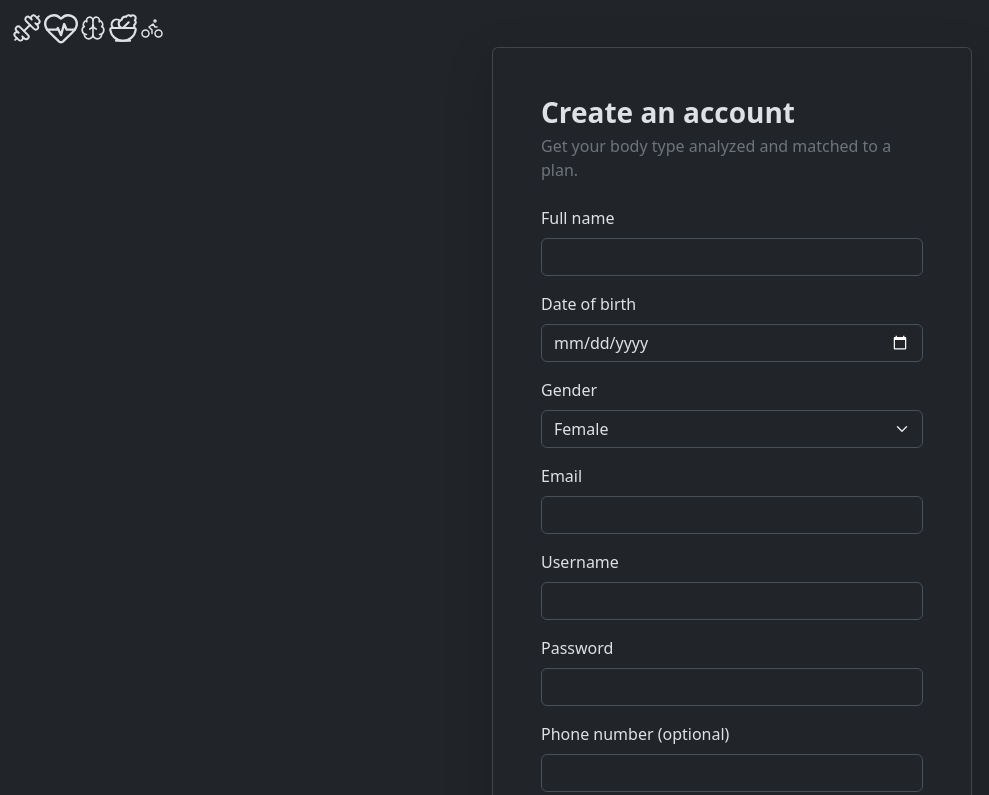
Scenario: rejects submission client-side when the user is under 15
This screenshot has width=989, height=795.
Type "Jane Silva" into the field labelled "Full name" at [732, 257], box left=541, top=238, right=923, bottom=276
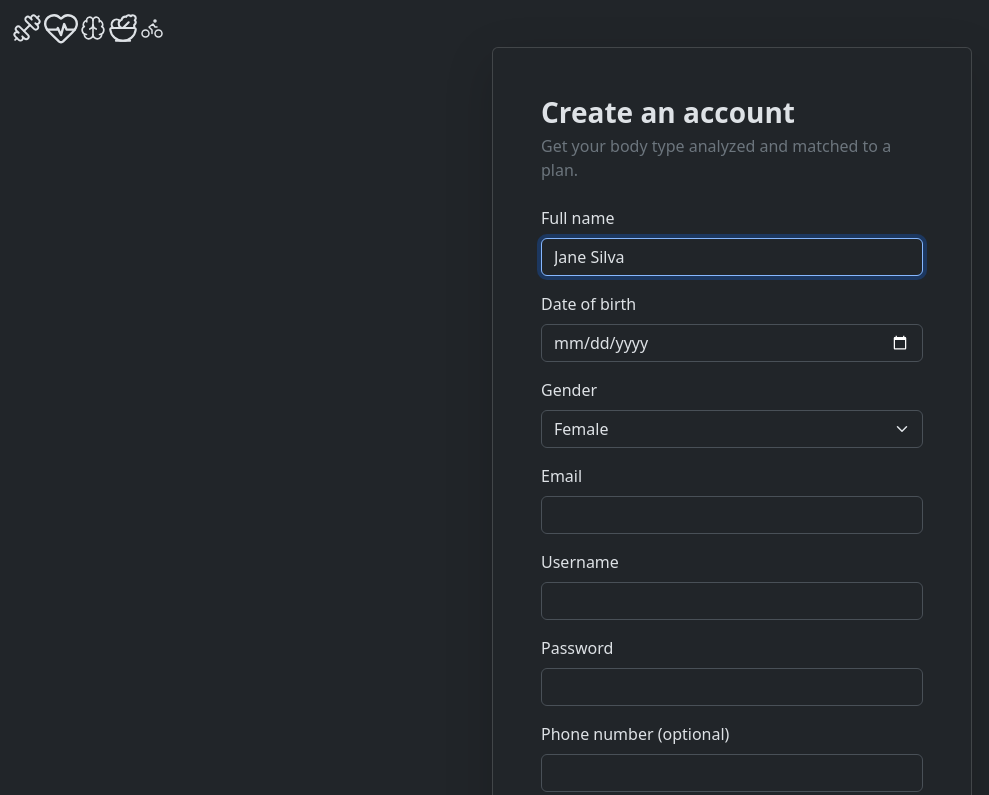
Type "2015-01-02" into the date field labelled "Date of birth" at [732, 343], box left=541, top=324, right=923, bottom=362
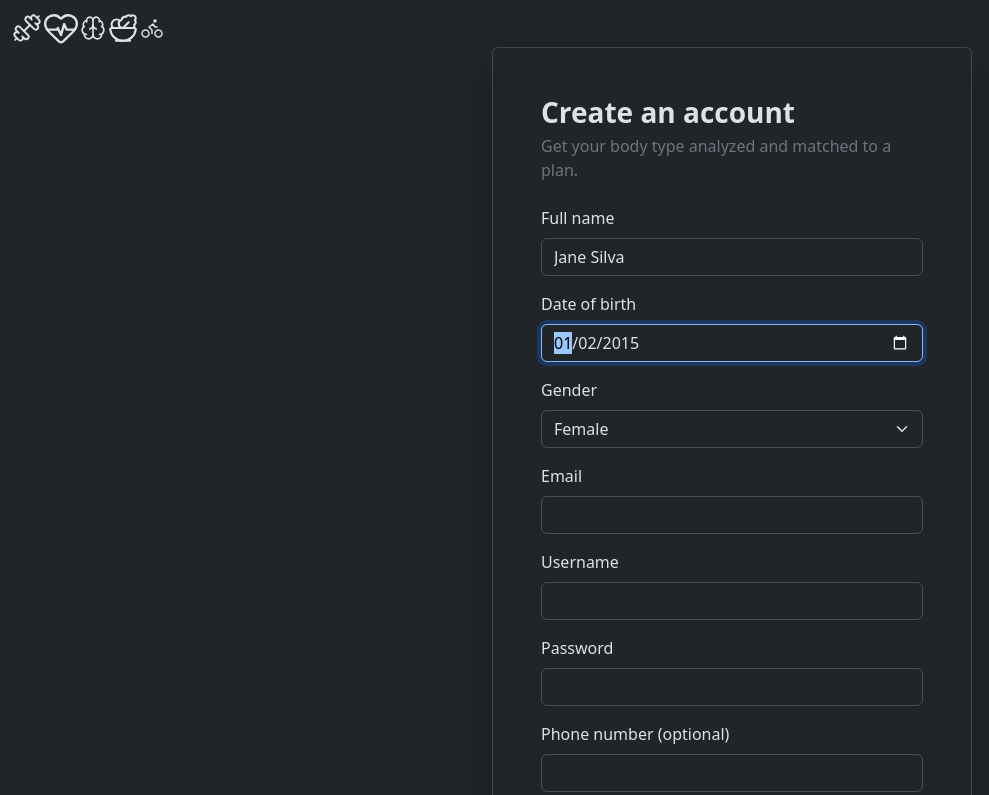
Type "jane@example.com" into the field labelled "Email" at [732, 515], box left=541, top=496, right=923, bottom=534
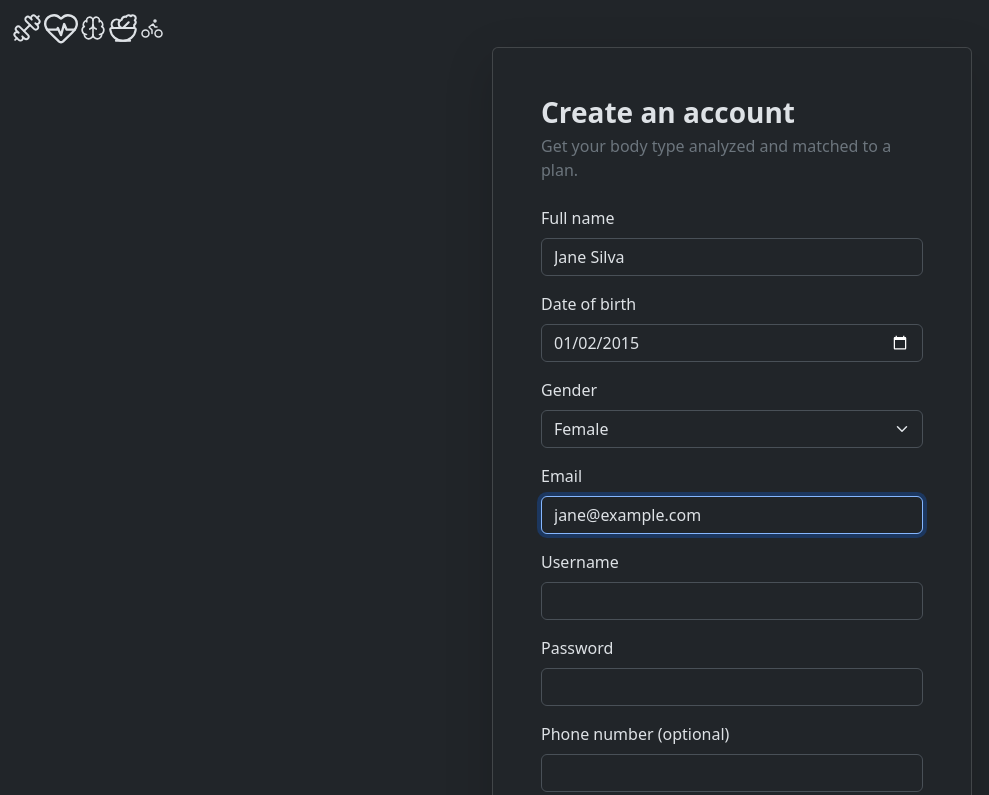
Type "janesilva" into the field labelled "Username" at [732, 601], box left=541, top=582, right=923, bottom=620
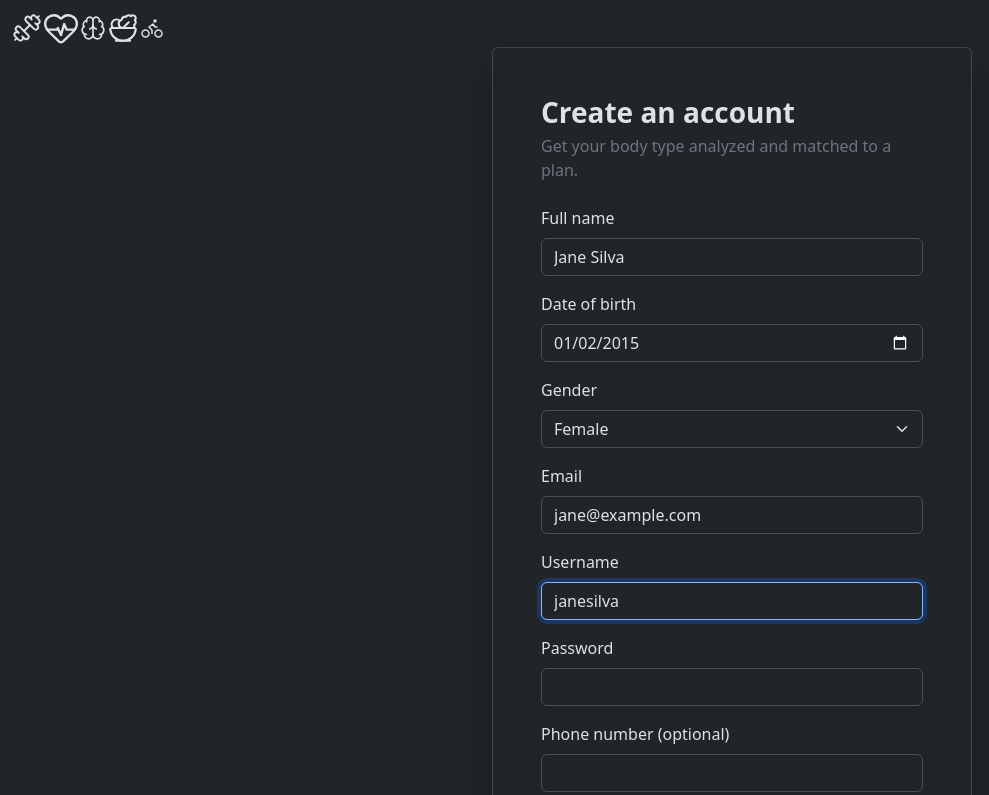
Type "supersecret" into the password field labelled "Password" at [732, 687], box left=541, top=668, right=923, bottom=706
(page scrolled)
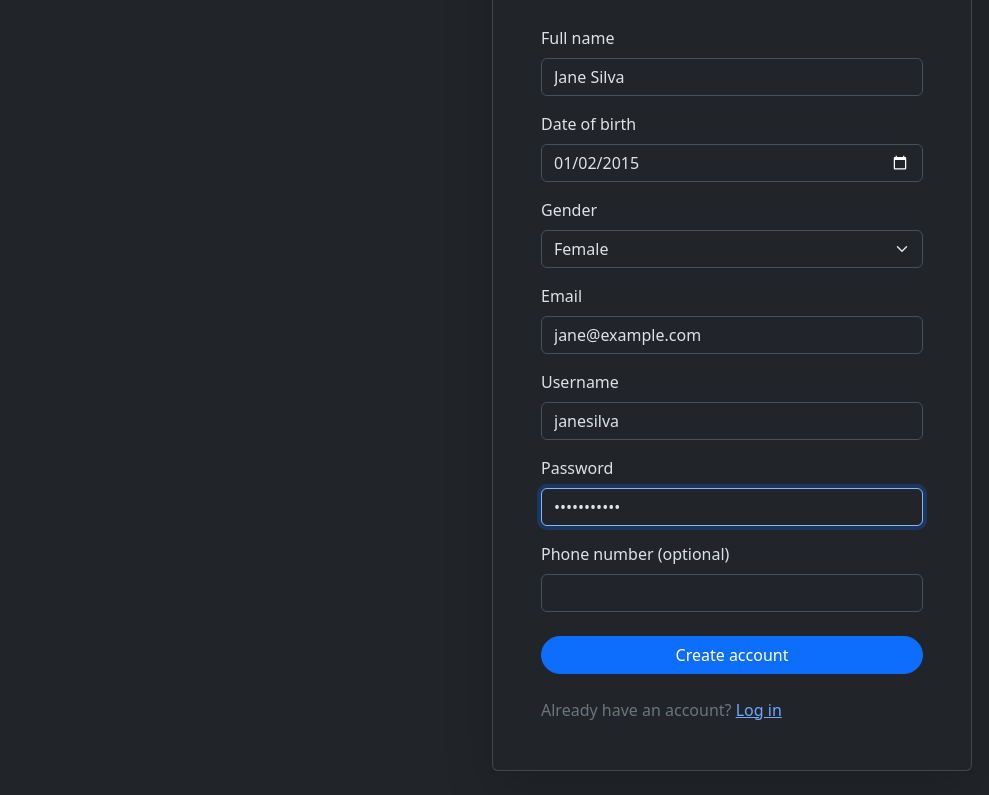
Click the button "Create account" at [732, 655], box left=541, top=636, right=923, bottom=674
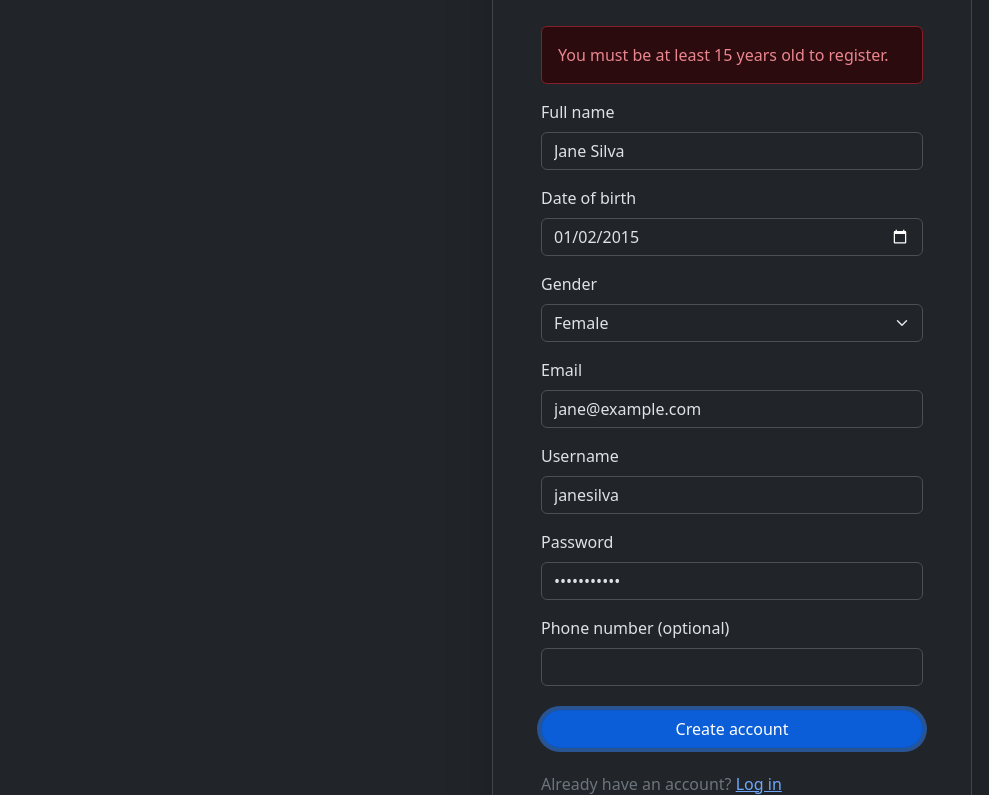
Expected: the text "You must be at least 15 years old to register." is shown, left=541, top=26, right=923, bottom=84
